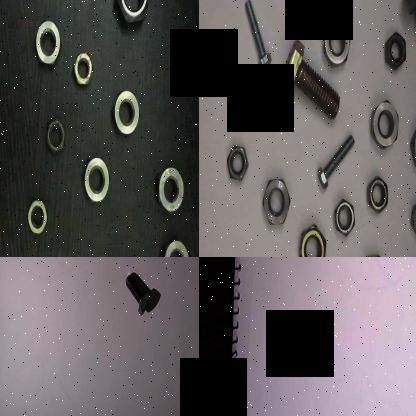Bolts: (282, 38, 340, 126), (318, 123, 355, 195), (239, 0, 272, 77), (125, 270, 151, 318)
NUTS: (365, 92, 403, 156), (258, 164, 292, 230), (217, 135, 254, 187), (108, 90, 143, 142), (82, 149, 112, 206), (319, 17, 351, 69), (32, 21, 64, 72), (156, 166, 186, 218), (365, 170, 391, 222), (382, 29, 410, 77), (297, 217, 329, 257), (27, 196, 53, 242), (114, 0, 151, 32), (70, 46, 94, 92), (334, 196, 358, 240), (160, 230, 196, 257), (46, 114, 67, 156), (403, 189, 416, 245), (407, 113, 416, 179)
